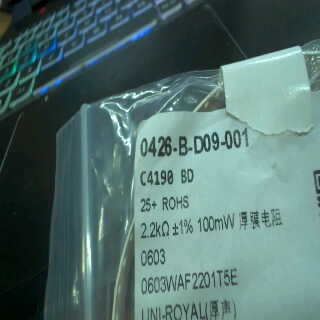2.2kR: (140, 218, 169, 242)
